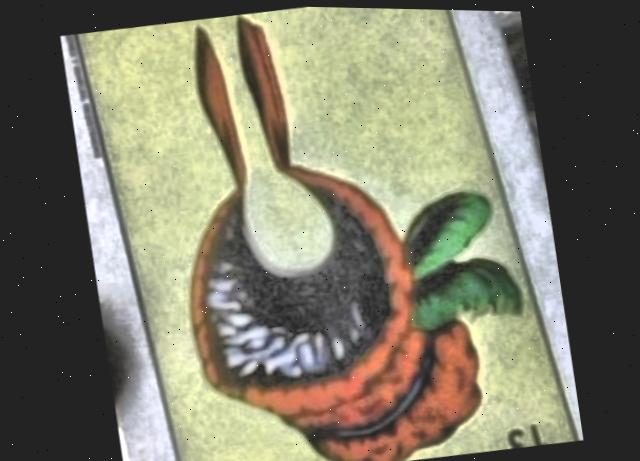El Gorrito: (79, 5, 574, 461)
